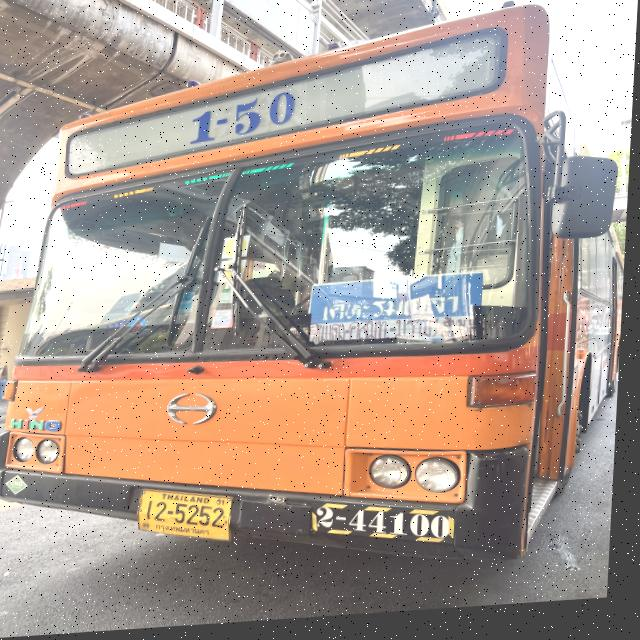BMTA-bus: (0, 12, 625, 570)
Bus Line Number: (183, 88, 311, 155)
Bus Side Number: (315, 502, 465, 555)
Destination Sign: (313, 278, 488, 357)
